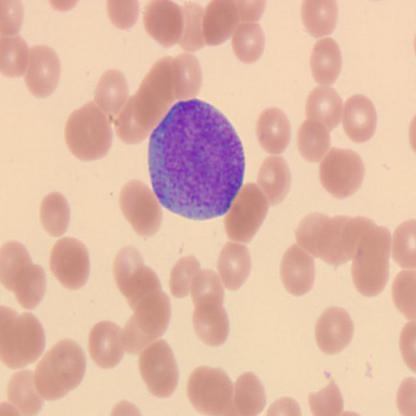Promyelocyte: (146, 100, 245, 222)
